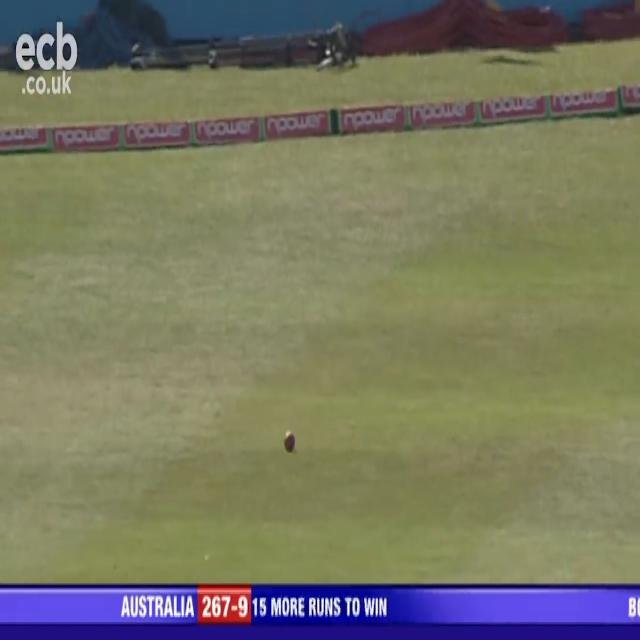ball: (282, 423, 299, 463)
